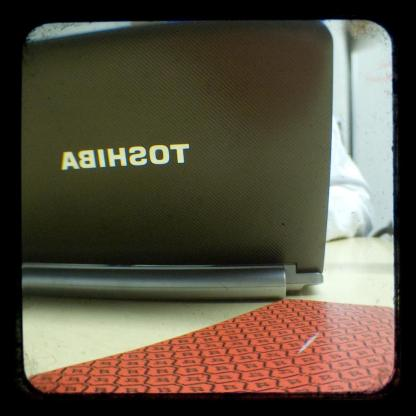board: (24, 21, 335, 300)
